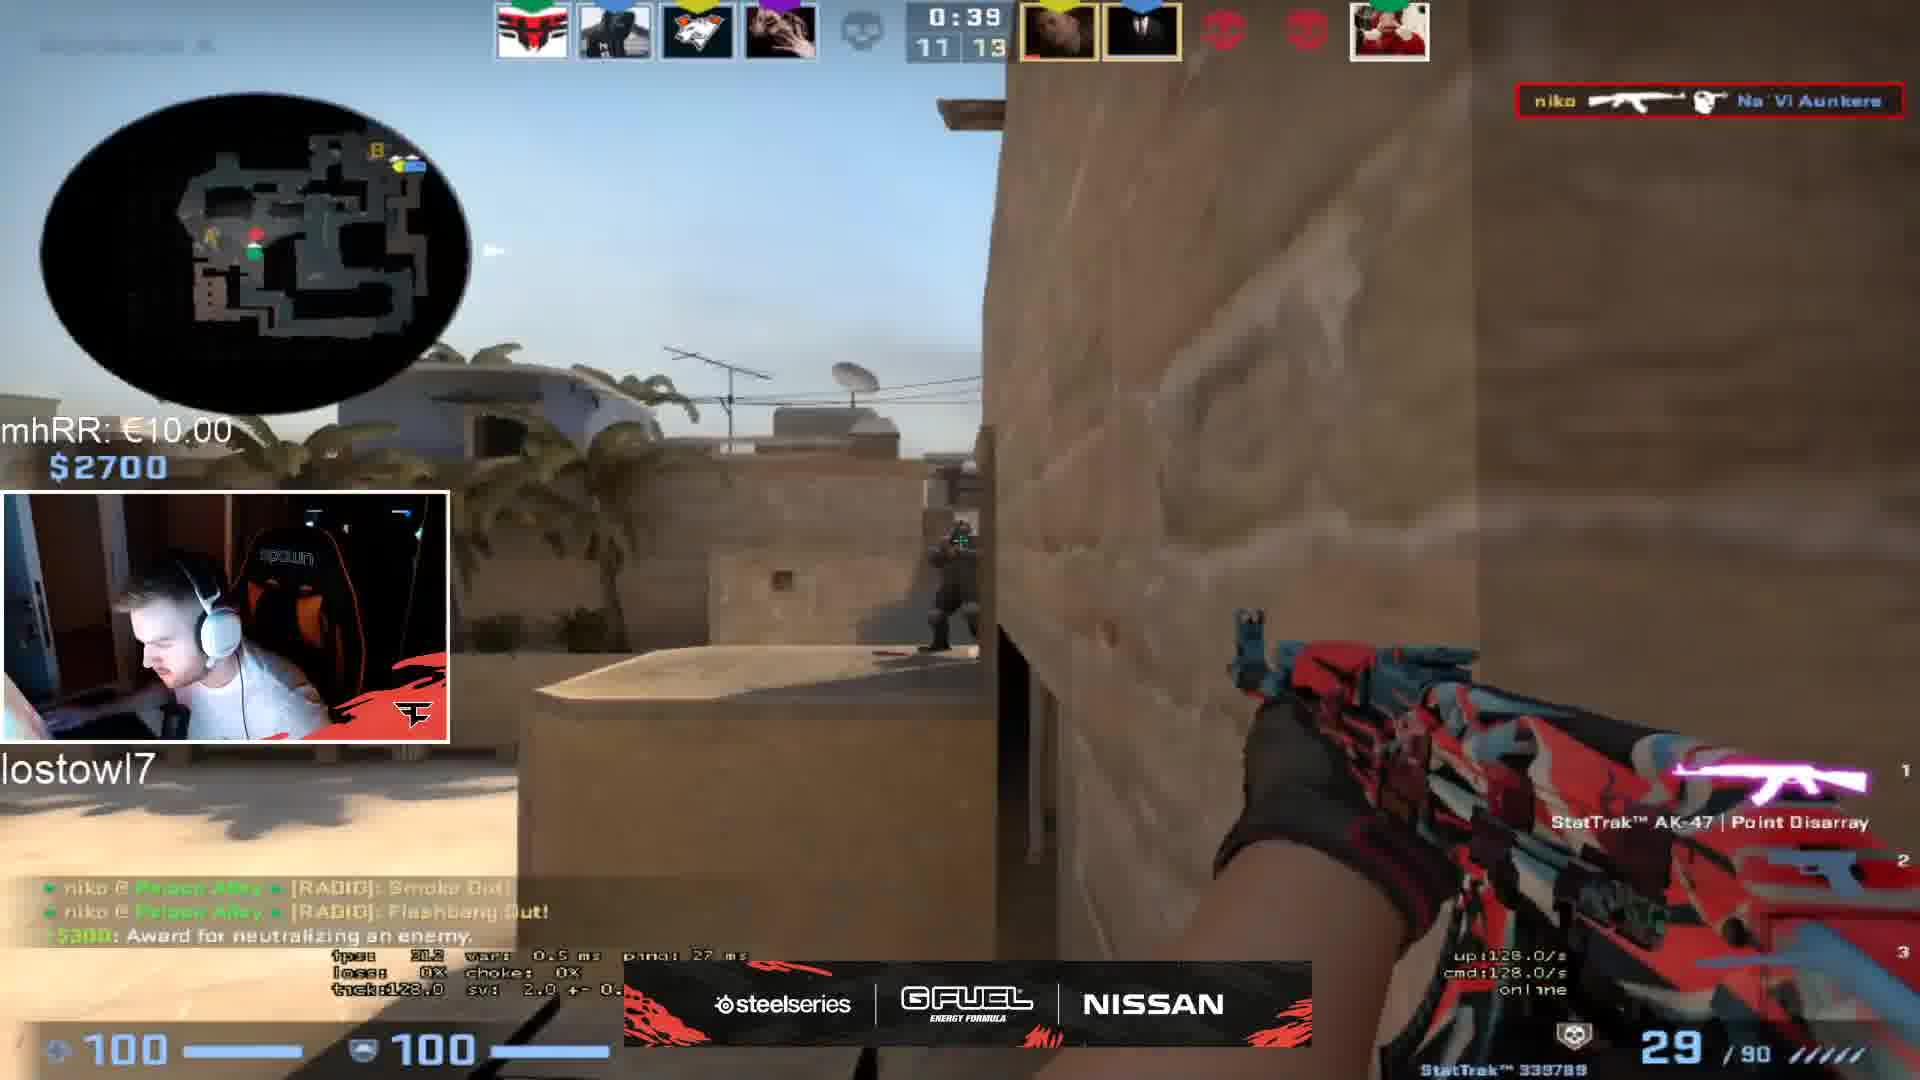enemy: (914, 514, 996, 657)
